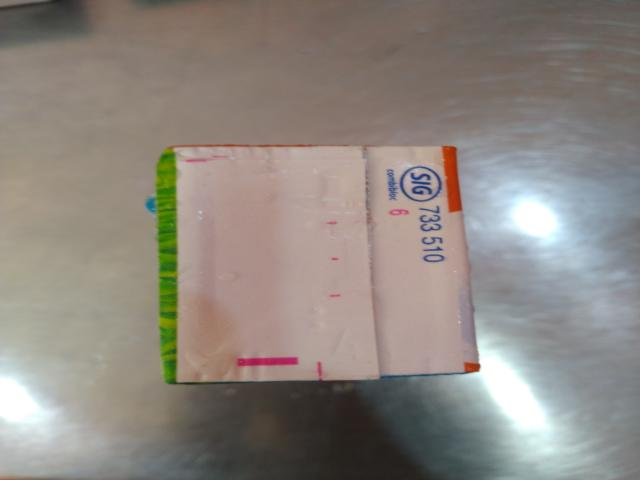drink_box: (128, 131, 551, 409)
